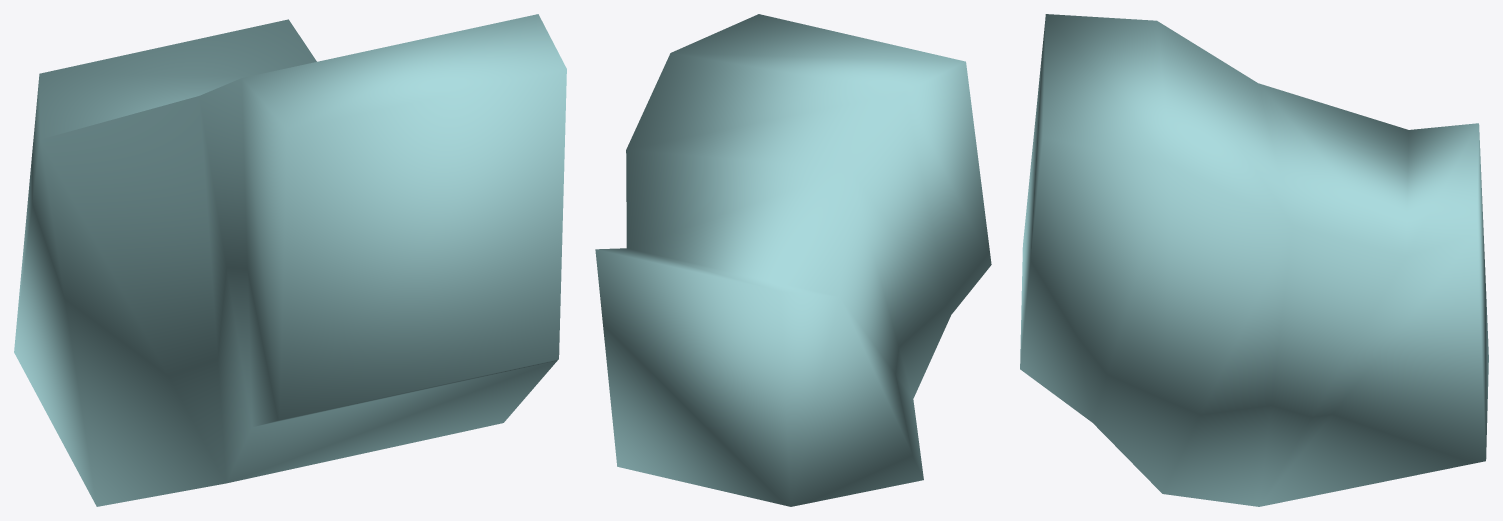
Rendered from Skelly_heel.02.L.fbx.
The picture shows the model from 3 angles, left to right: view 1: azimuth 30°, elevation 25°; view 2: azimuth 150°, elevation 25°; view 3: azimuth 270°, elevation 25°; orthographic projection. The views are drawn at different scales.
Parts seen in each view (by area): view 1: Skelly_heel.02.L; view 2: Skelly_heel.02.L; view 3: Skelly_heel.02.L.
Boxes of the visible parts, x1,y1,x2,y2 form: Skelly_heel.02.L: [14, 14, 566, 506]; Skelly_heel.02.L: [595, 14, 991, 506]; Skelly_heel.02.L: [1020, 14, 1488, 506].
Bounding box in the file's own units: 6.49 × 7.29 × 7.74.
